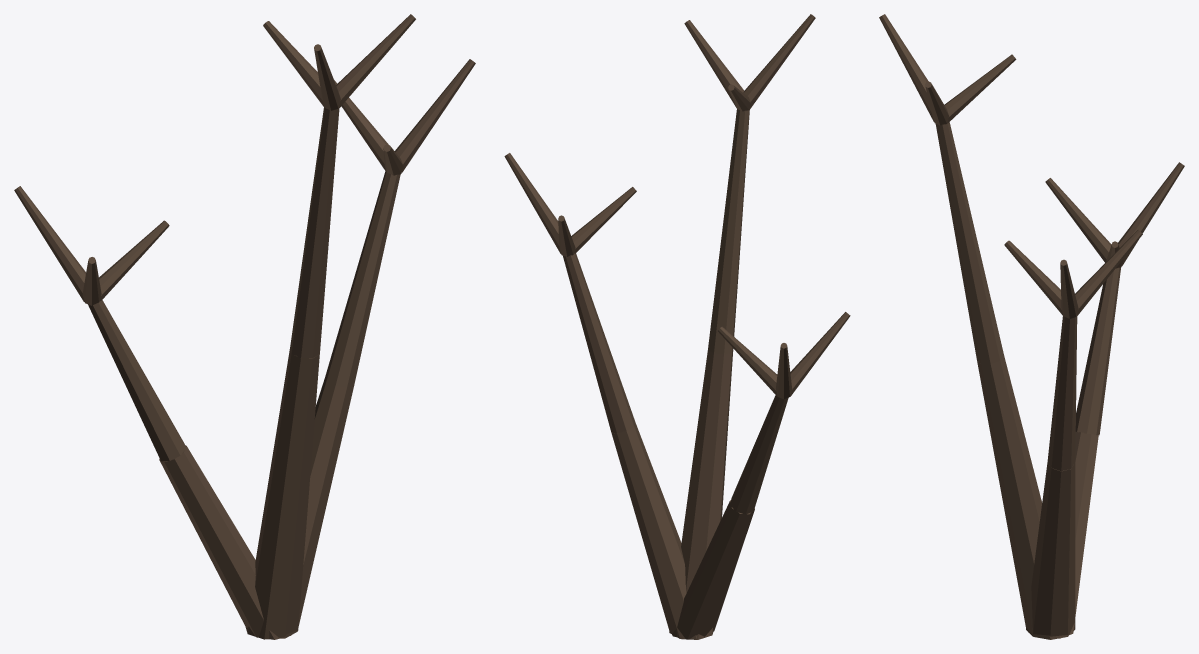
Rendered from elderberry_young_winter.glb.
3 views of the same model, side by side, from view 1: azimuth 30°, elevation 25°; view 2: azimuth 150°, elevation 25°; view 3: azimuth 270°, elevation 25° (orthographic). The views are drawn at different scales.
Parts seen in each view (by area): view 1: elderberry_young_winter; view 2: elderberry_young_winter; view 3: elderberry_young_winter.
Part boxes in pixels (x1=…): elderberry_young_winter: x1=14, y1=14, x2=475, y2=639; elderberry_young_winter: x1=504, y1=14, x2=850, y2=639; elderberry_young_winter: x1=879, y1=14, x2=1184, y2=639.
Bounding box in the file's own units: 0.5613 × 0.9007 × 0.4198.
